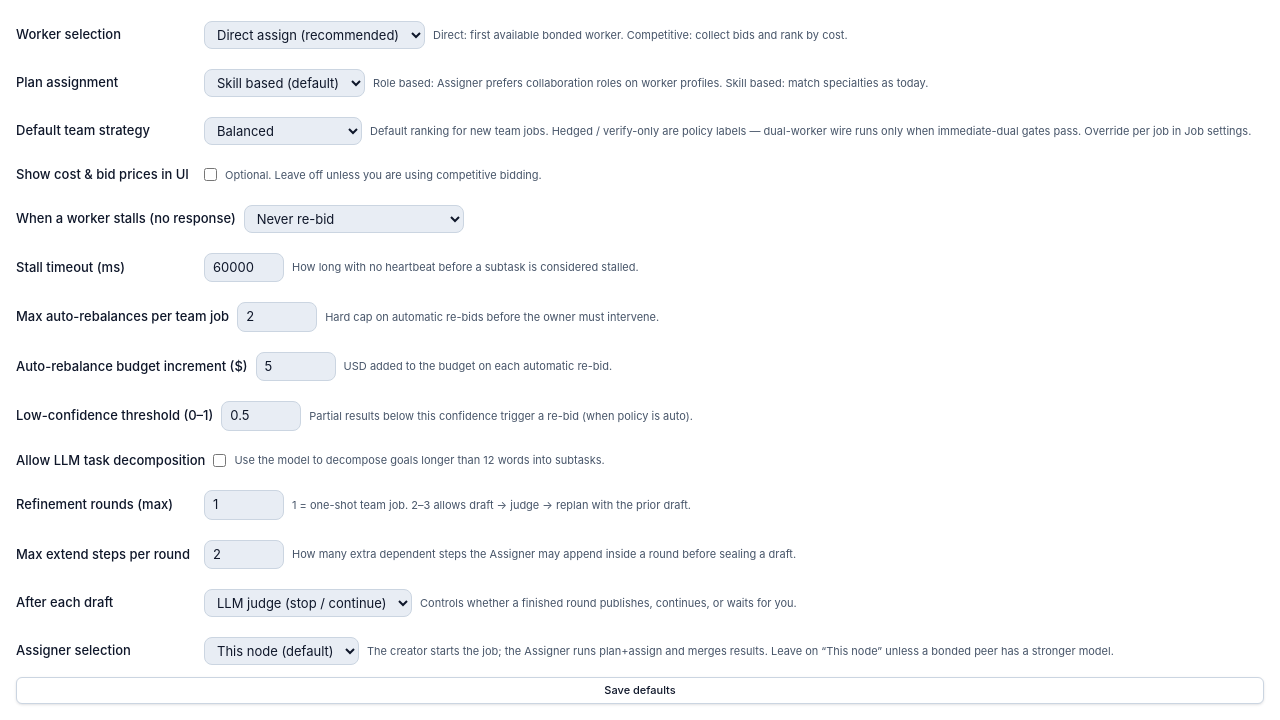
Test: ChainDefaultsPanel › shows error state when chainSetDefaults rejects
The width and height of the screenshot is (1280, 720).
(page scrolled)
Click the button "Save defaults": (640, 690) [16,677,1264,704]
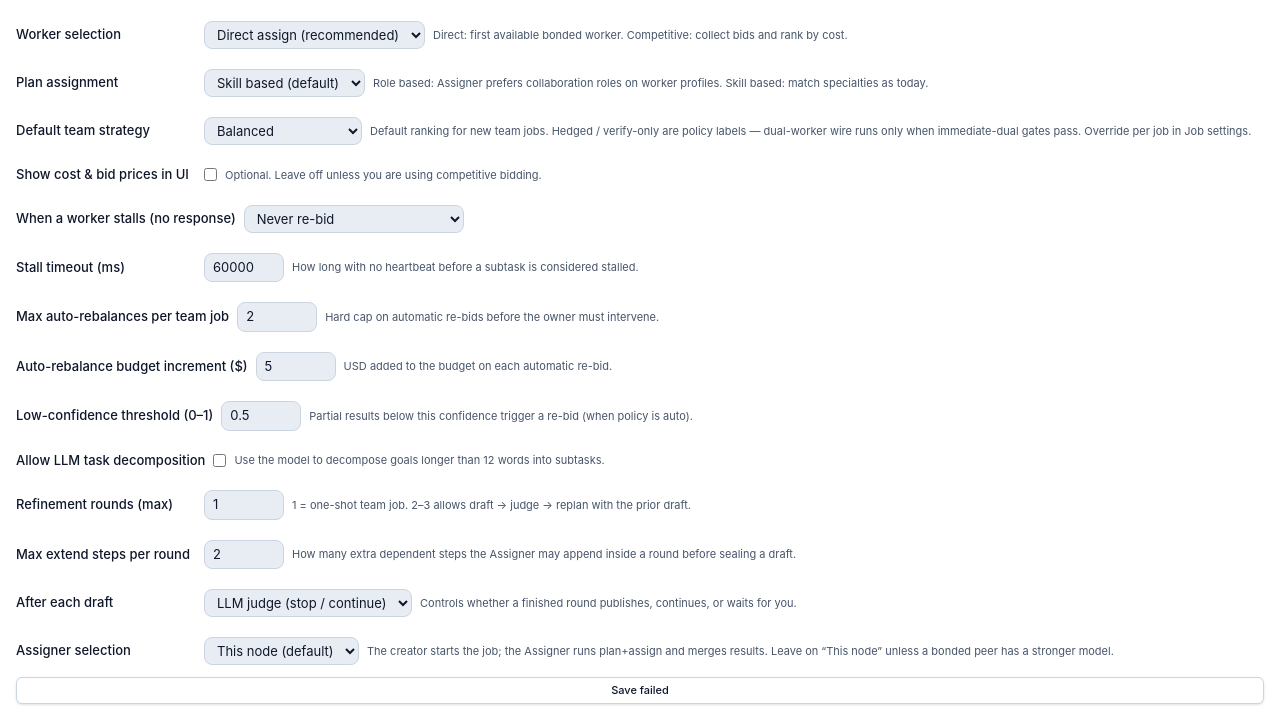
Now the button "Save failed" is shown, box [16,677,1264,704]
